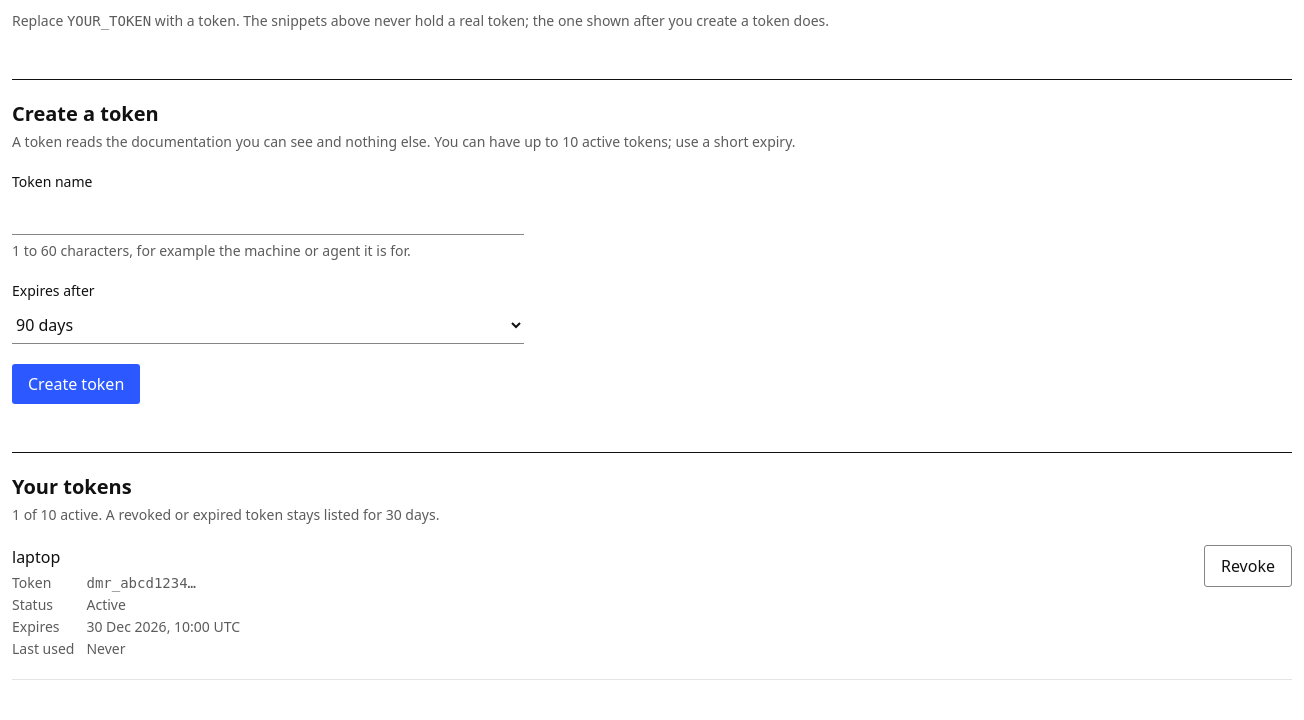
Test: AgentAccess: revoking › keeps the token active and says so when revoking fails
This screenshot has width=1304, height=720.
(page scrolled)
Click the button with aria-label "Revoke laptop" at (1248, 566), box [1204,545,1292,587]
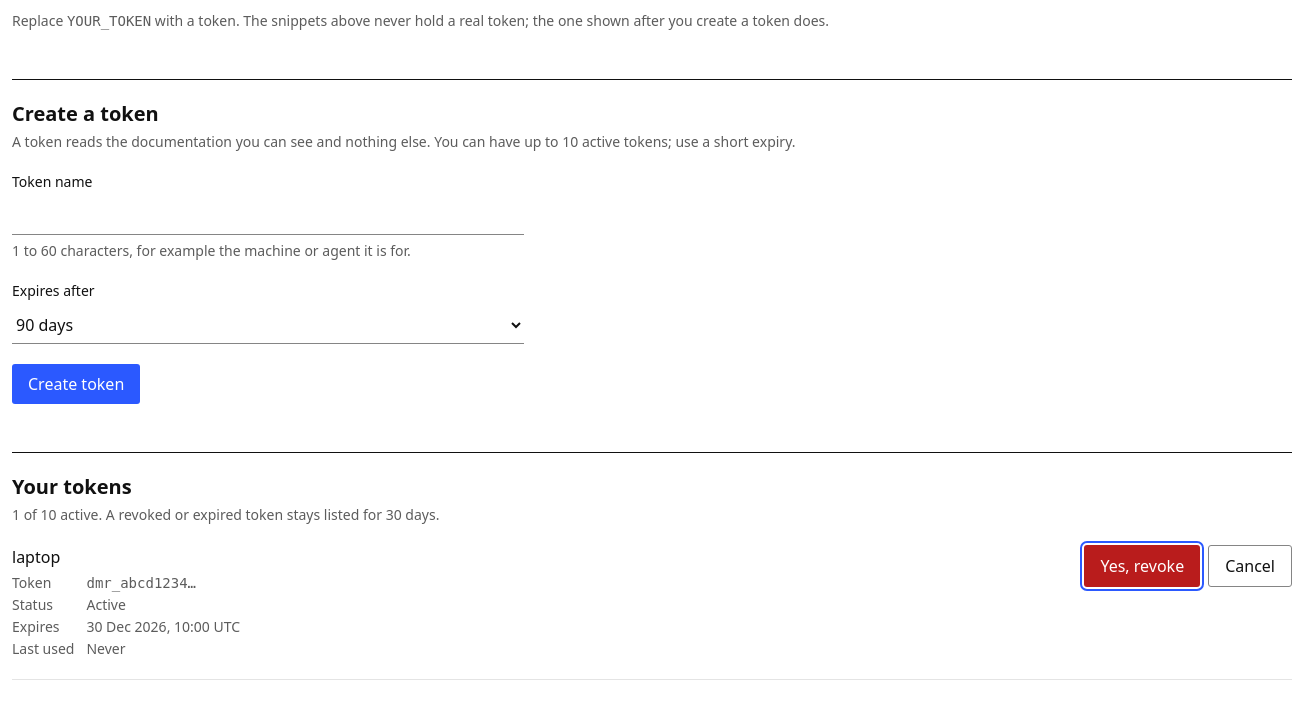
Click the button "Yes, revoke" at (1142, 566), box [1084,545,1200,587]
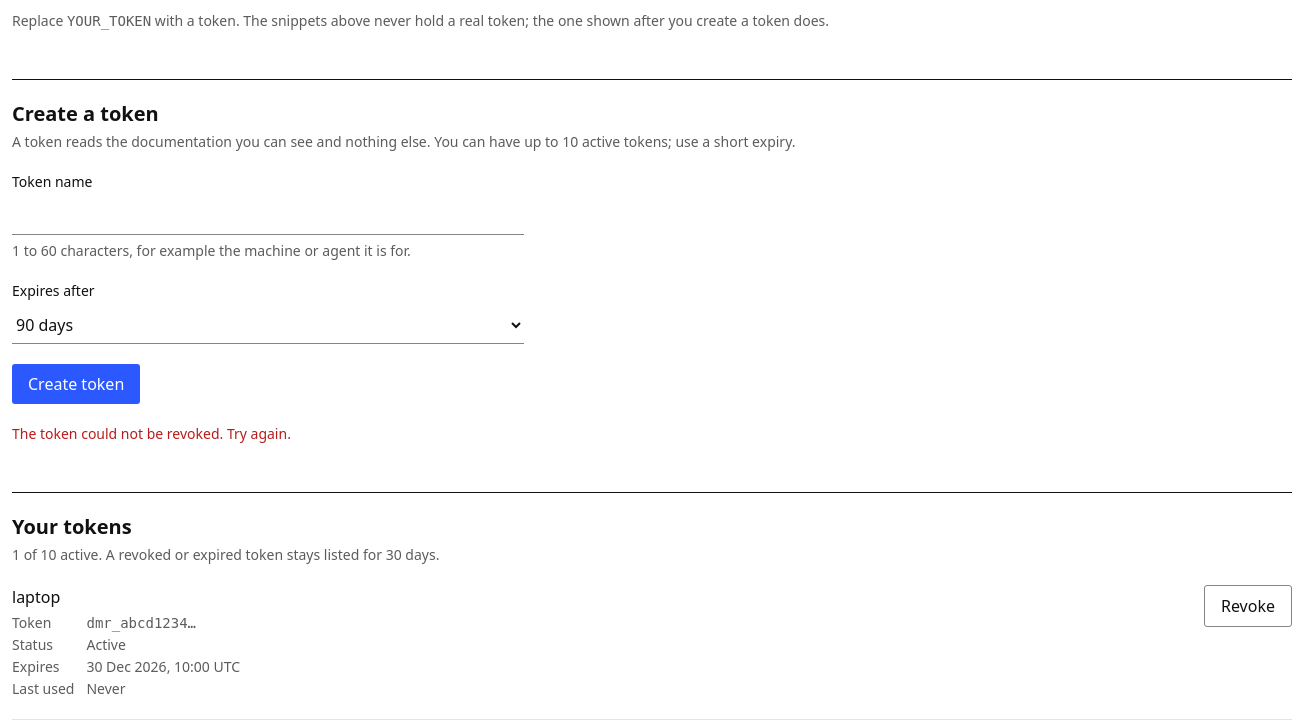
Expected: the text with test id "token-status" reads "Active", [86,635,126,654]
Expected: the message with test id "agent-access-error" shows "could not be revoked", [12,424,291,443]
